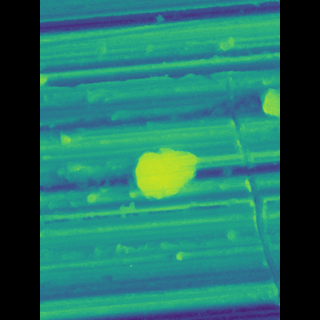Loch: (205, 32, 251, 303), (135, 143, 193, 205)
